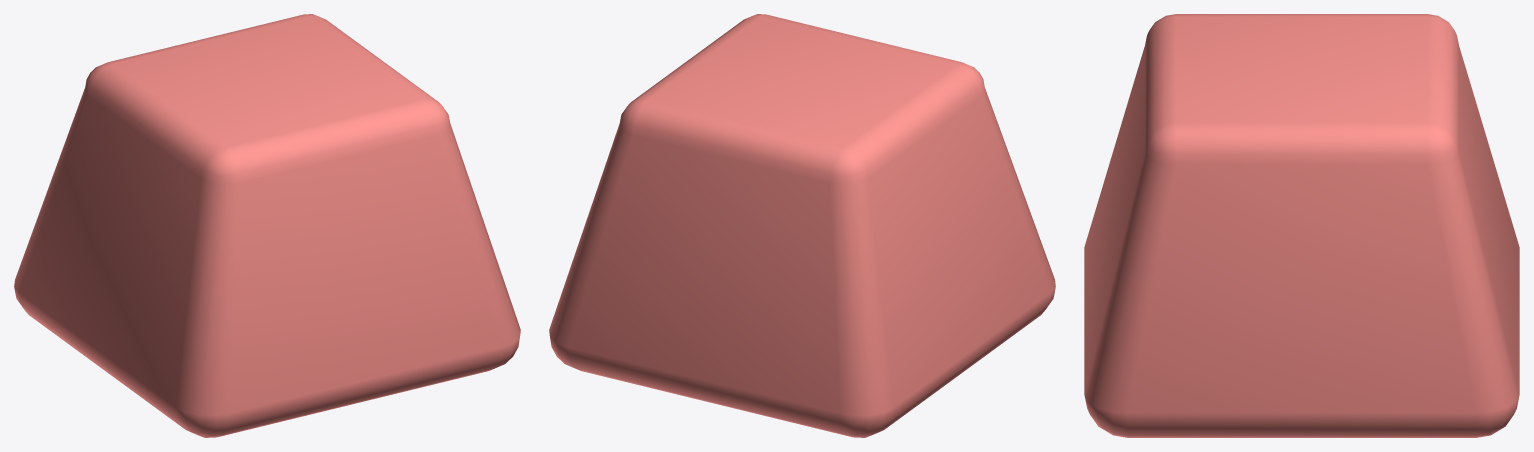
Rendered from SmallGround.fbx.
The picture shows the model from 3 angles, left to right: view 1: azimuth 30°, elevation 25°; view 2: azimuth 150°, elevation 25°; view 3: azimuth 270°, elevation 25°; orthographic projection. The views are drawn at different scales.
Visible parts, largest first — view 1: Roundcube; view 2: Roundcube; view 3: Roundcube.
Part boxes in pixels (left/top/right/bottom): Roundcube: left=14, top=14, right=520, bottom=437; Roundcube: left=549, top=14, right=1055, bottom=437; Roundcube: left=1084, top=14, right=1519, bottom=437.
Bounding box in the file's own units: 277 × 204 × 277.
1 material, 1 textured.
